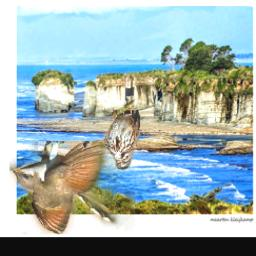Cuckoo: (11, 141, 136, 234)
Sparrow: (102, 74, 140, 171)
